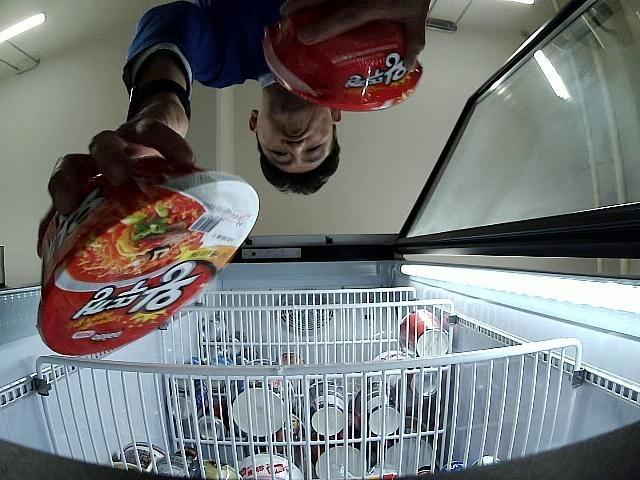10_wangTtukkeong: (38, 162, 258, 356), (264, 15, 422, 110)
